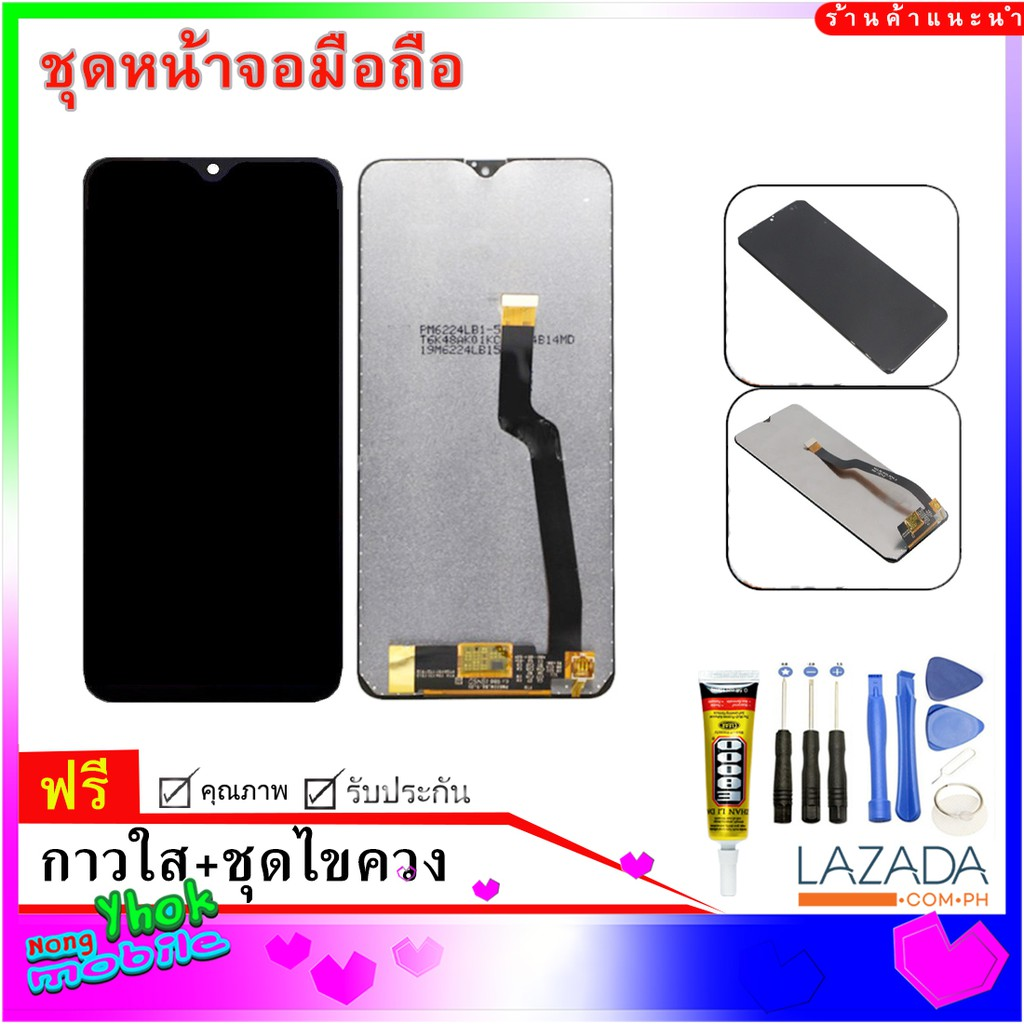Phone: (78, 152, 347, 706), (353, 154, 620, 701)
